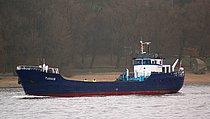Ship: (12, 37, 191, 101)
